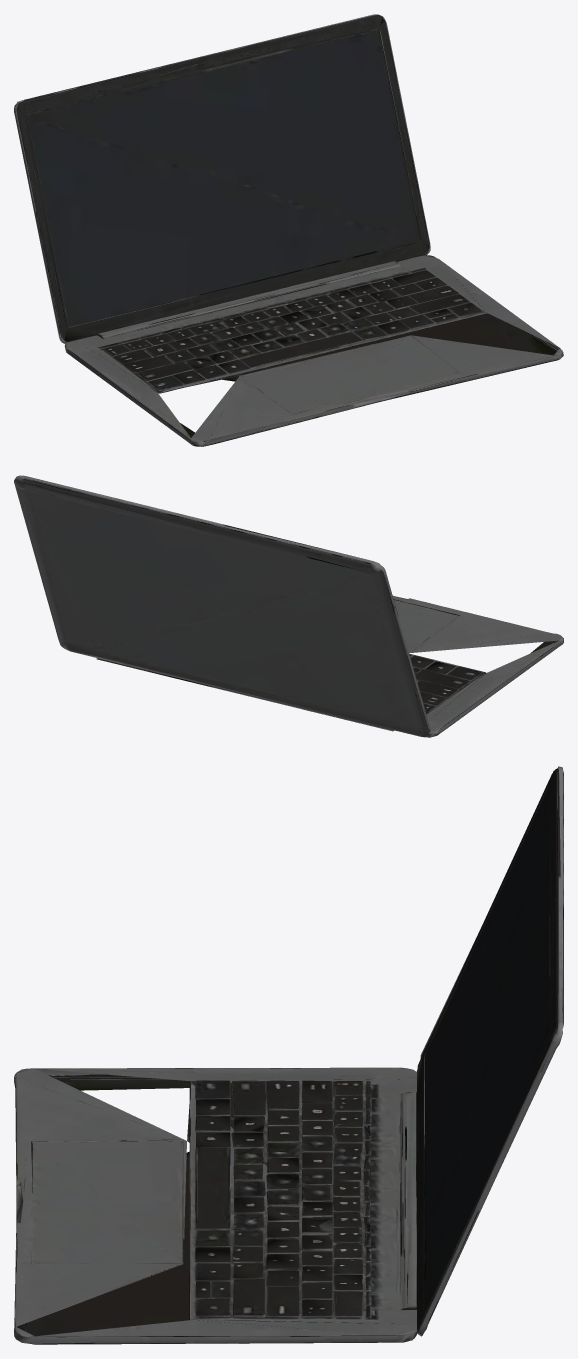
Rendered from mobile.glb.
3 views of the same model, one above another, from view 1: azimuth 30°, elevation 25°; view 2: azimuth 150°, elevation 25°; view 3: azimuth 270°, elevation 25° (orthographic). The views are drawn at different scales.
Visible parts, largest first — view 1: laptop; view 2: laptop; view 3: laptop.
Part boxes in pixels (x1,y1,x2,y2): laptop: [14, 14, 563, 446]; laptop: [14, 475, 563, 737]; laptop: [14, 766, 563, 1344].
Bounding box in the file's own units: 0.33 × 0.1815 × 0.2849.
Materials: 1 (1 with a texture image).
